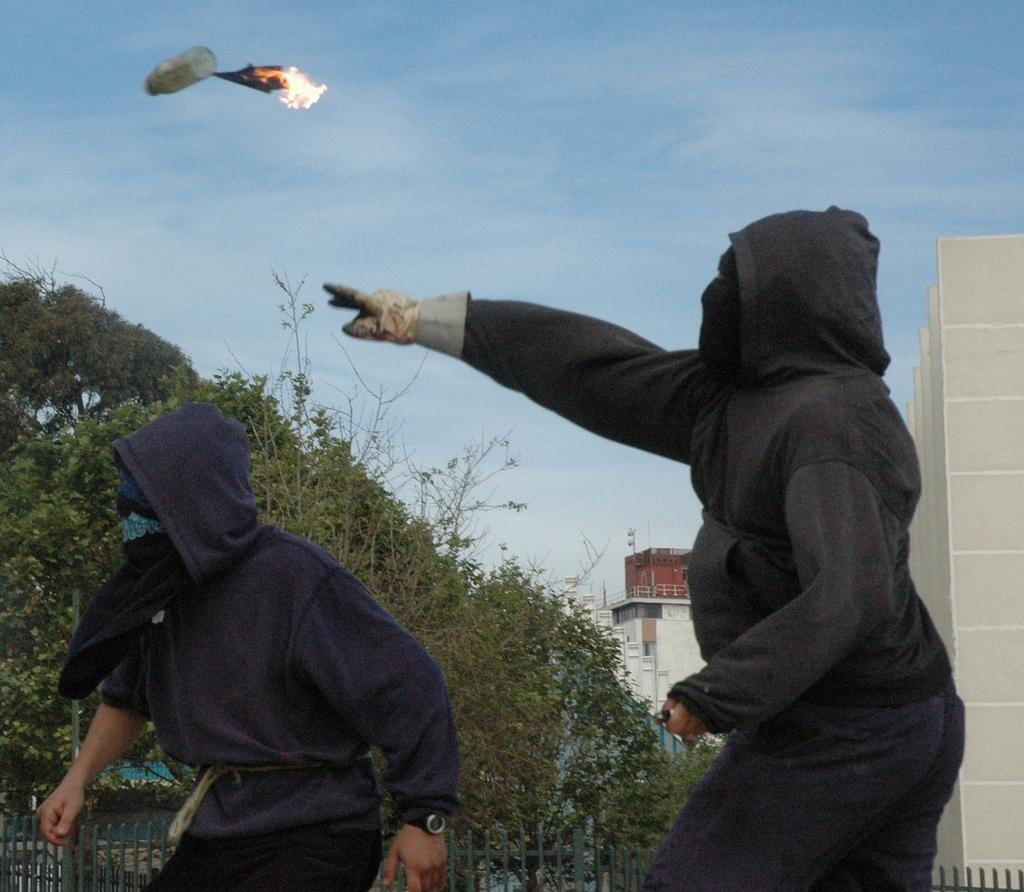fire: (280, 63, 322, 112)
